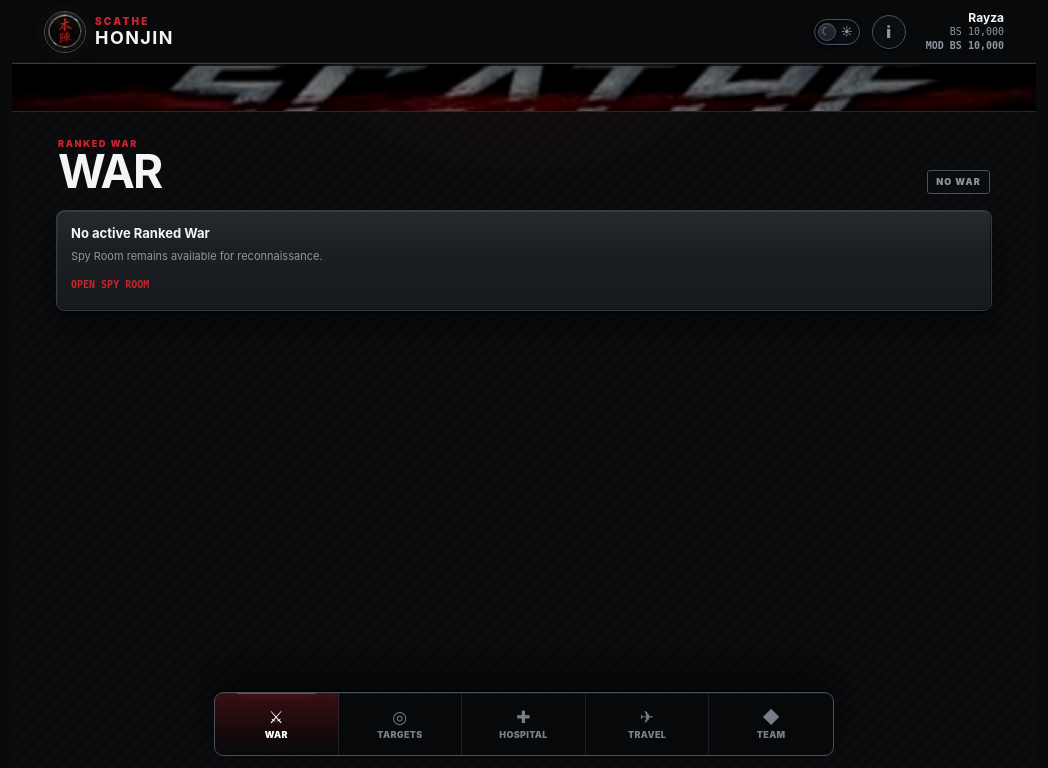
Test: live Spy Room shell › persists explicit removal from the individual shortlist
Click the button "OPEN SPY ROOM": point(113, 285) [71,274,155,296]
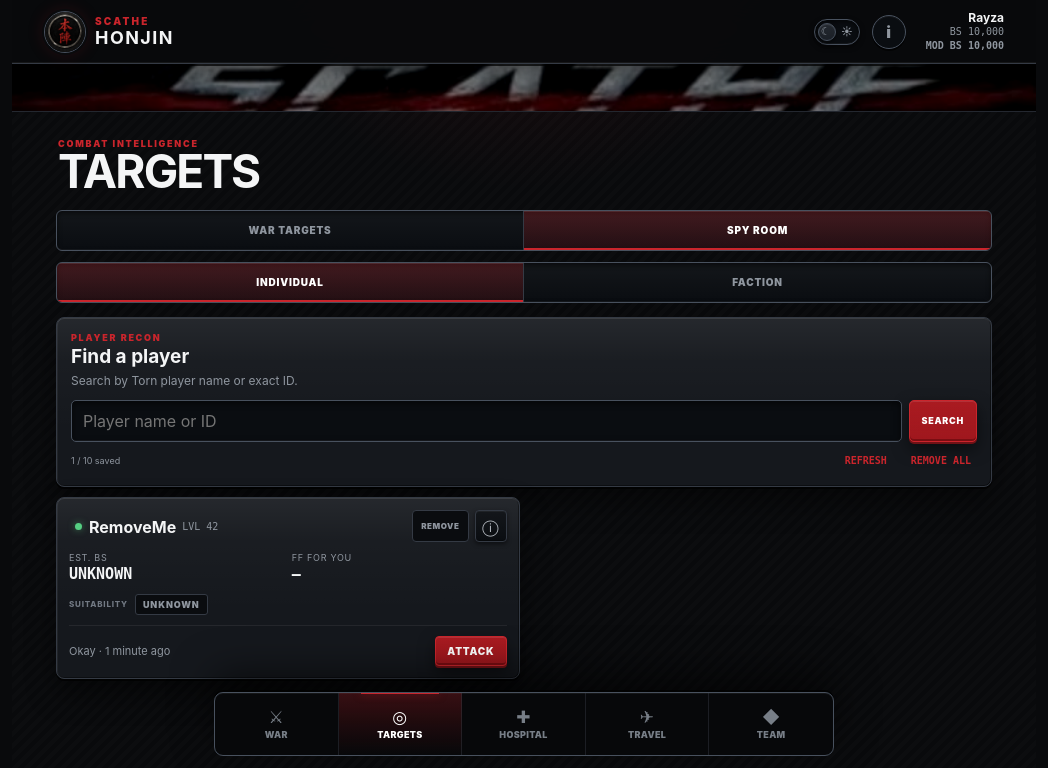
expect the text "RemoveMe" is shown: met, box [69,510,218,542]
Click the button with aria-label "Remove RemoveMe from Spy Room": point(440, 526) [412,510,468,542]
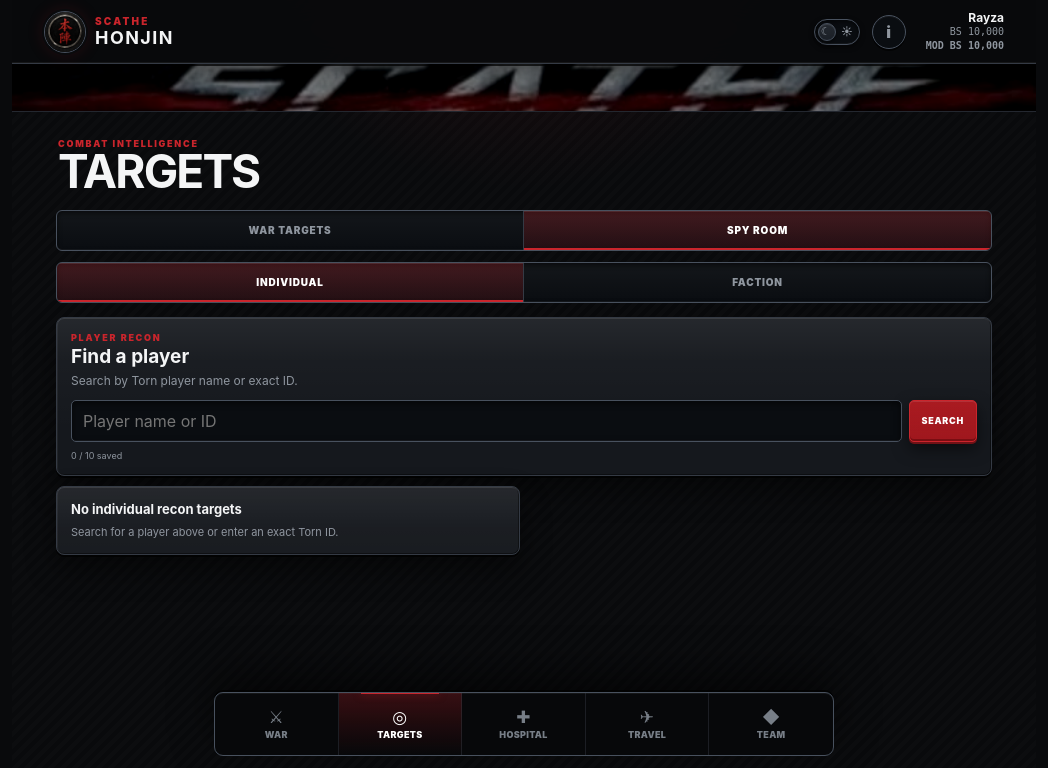
expect the button "RemoveMe" is gone: met
